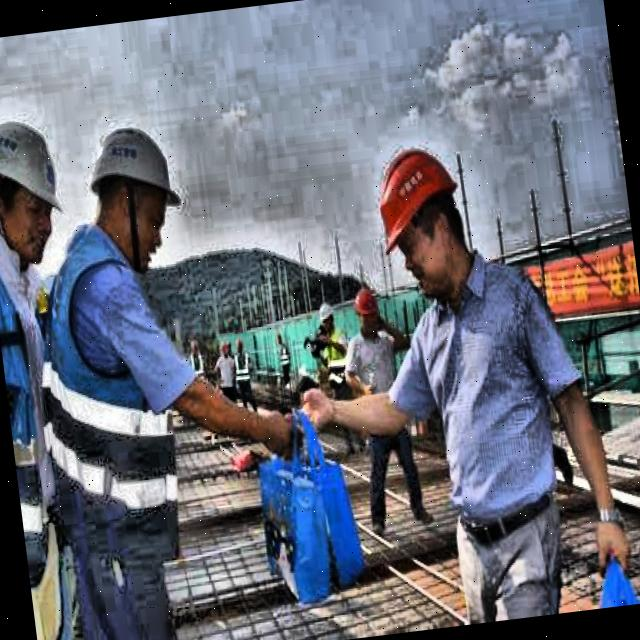helmet: (360, 117, 488, 317), (80, 104, 194, 270), (0, 99, 80, 268), (350, 278, 389, 338), (314, 296, 344, 336)
